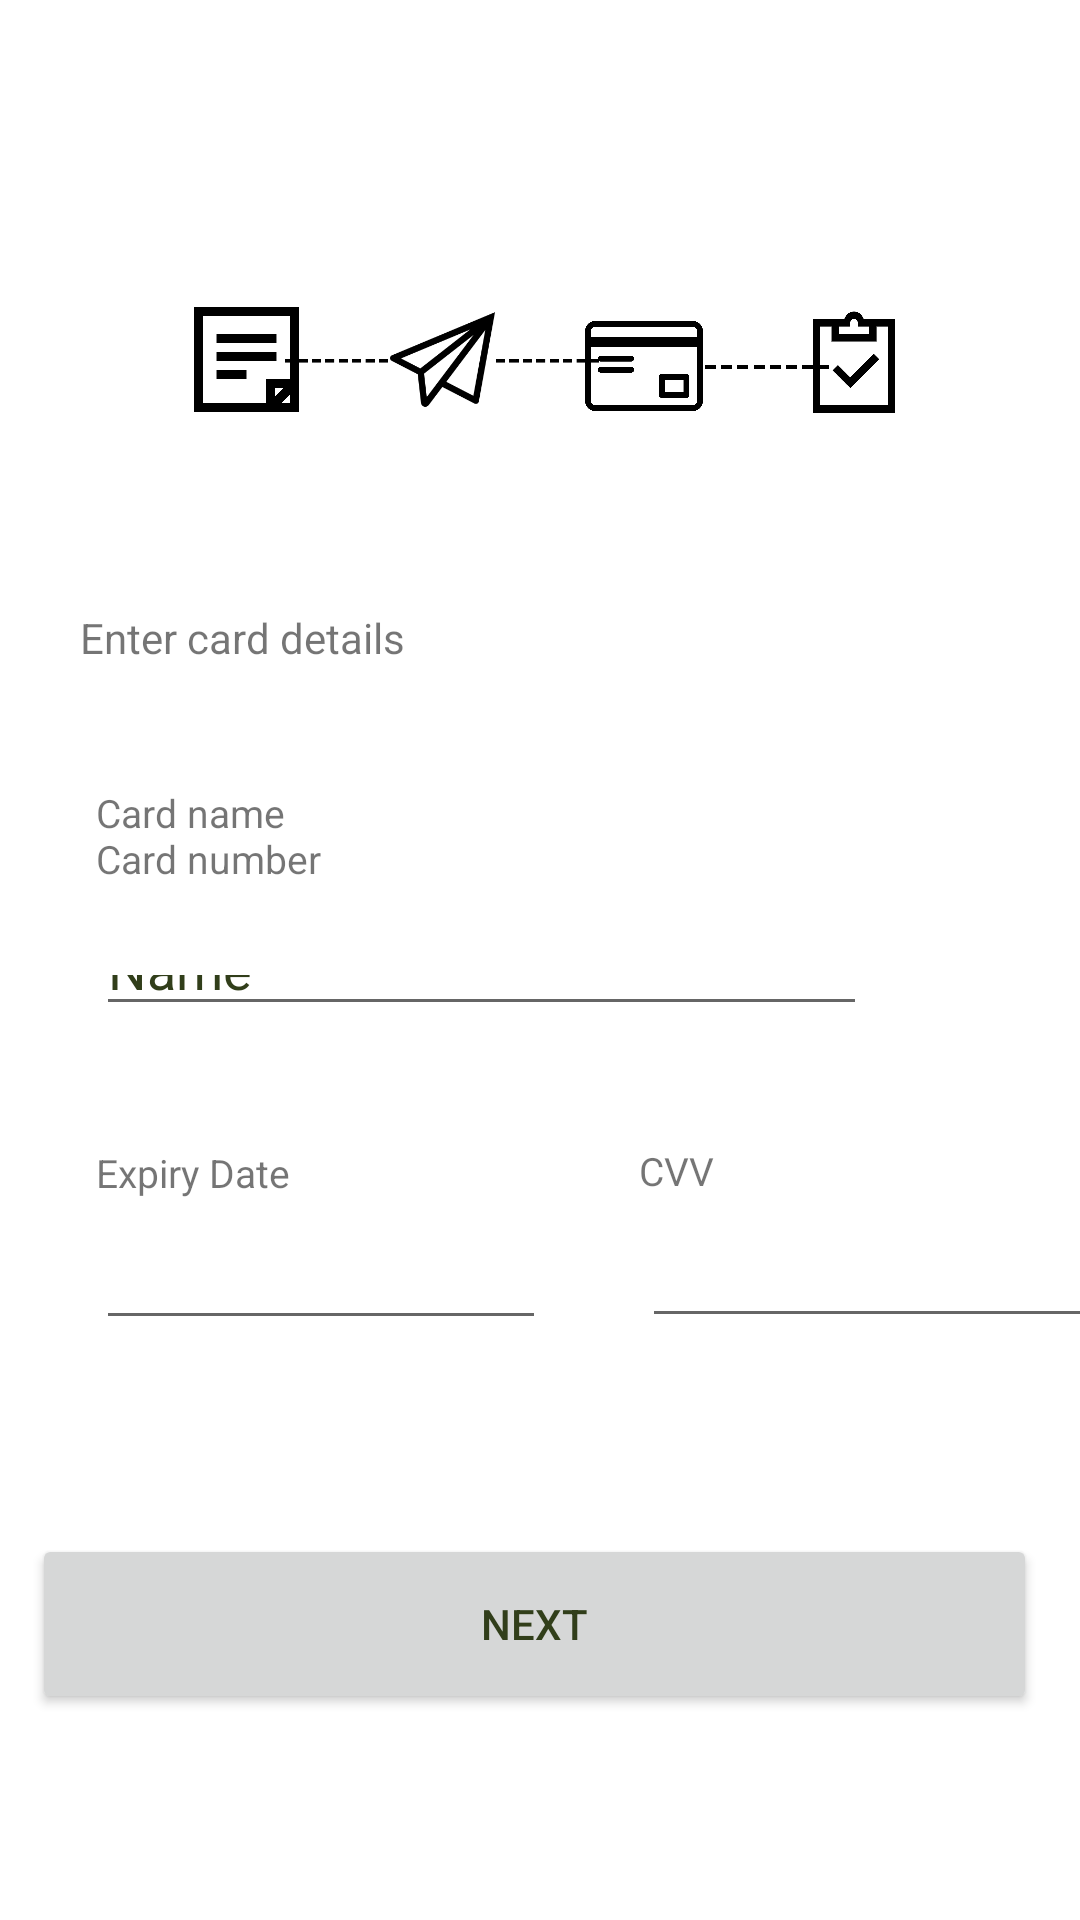

Icons on this 1080x1920 Android screen, each with the point to tap as (x,y):
card: (643,366)
notedetail: (246,359)
paperplane: (442,359)
success: (848,362)
